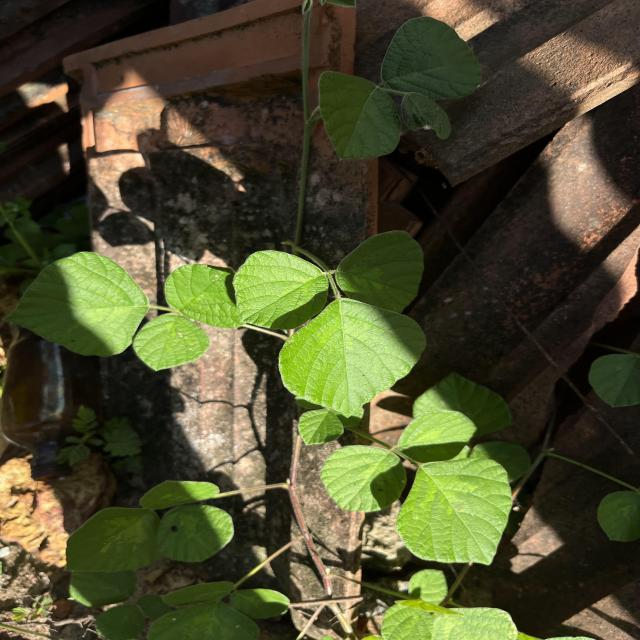Pseudarthria viscida: (230, 227, 430, 421), (320, 408, 514, 567), (0, 248, 236, 374)
